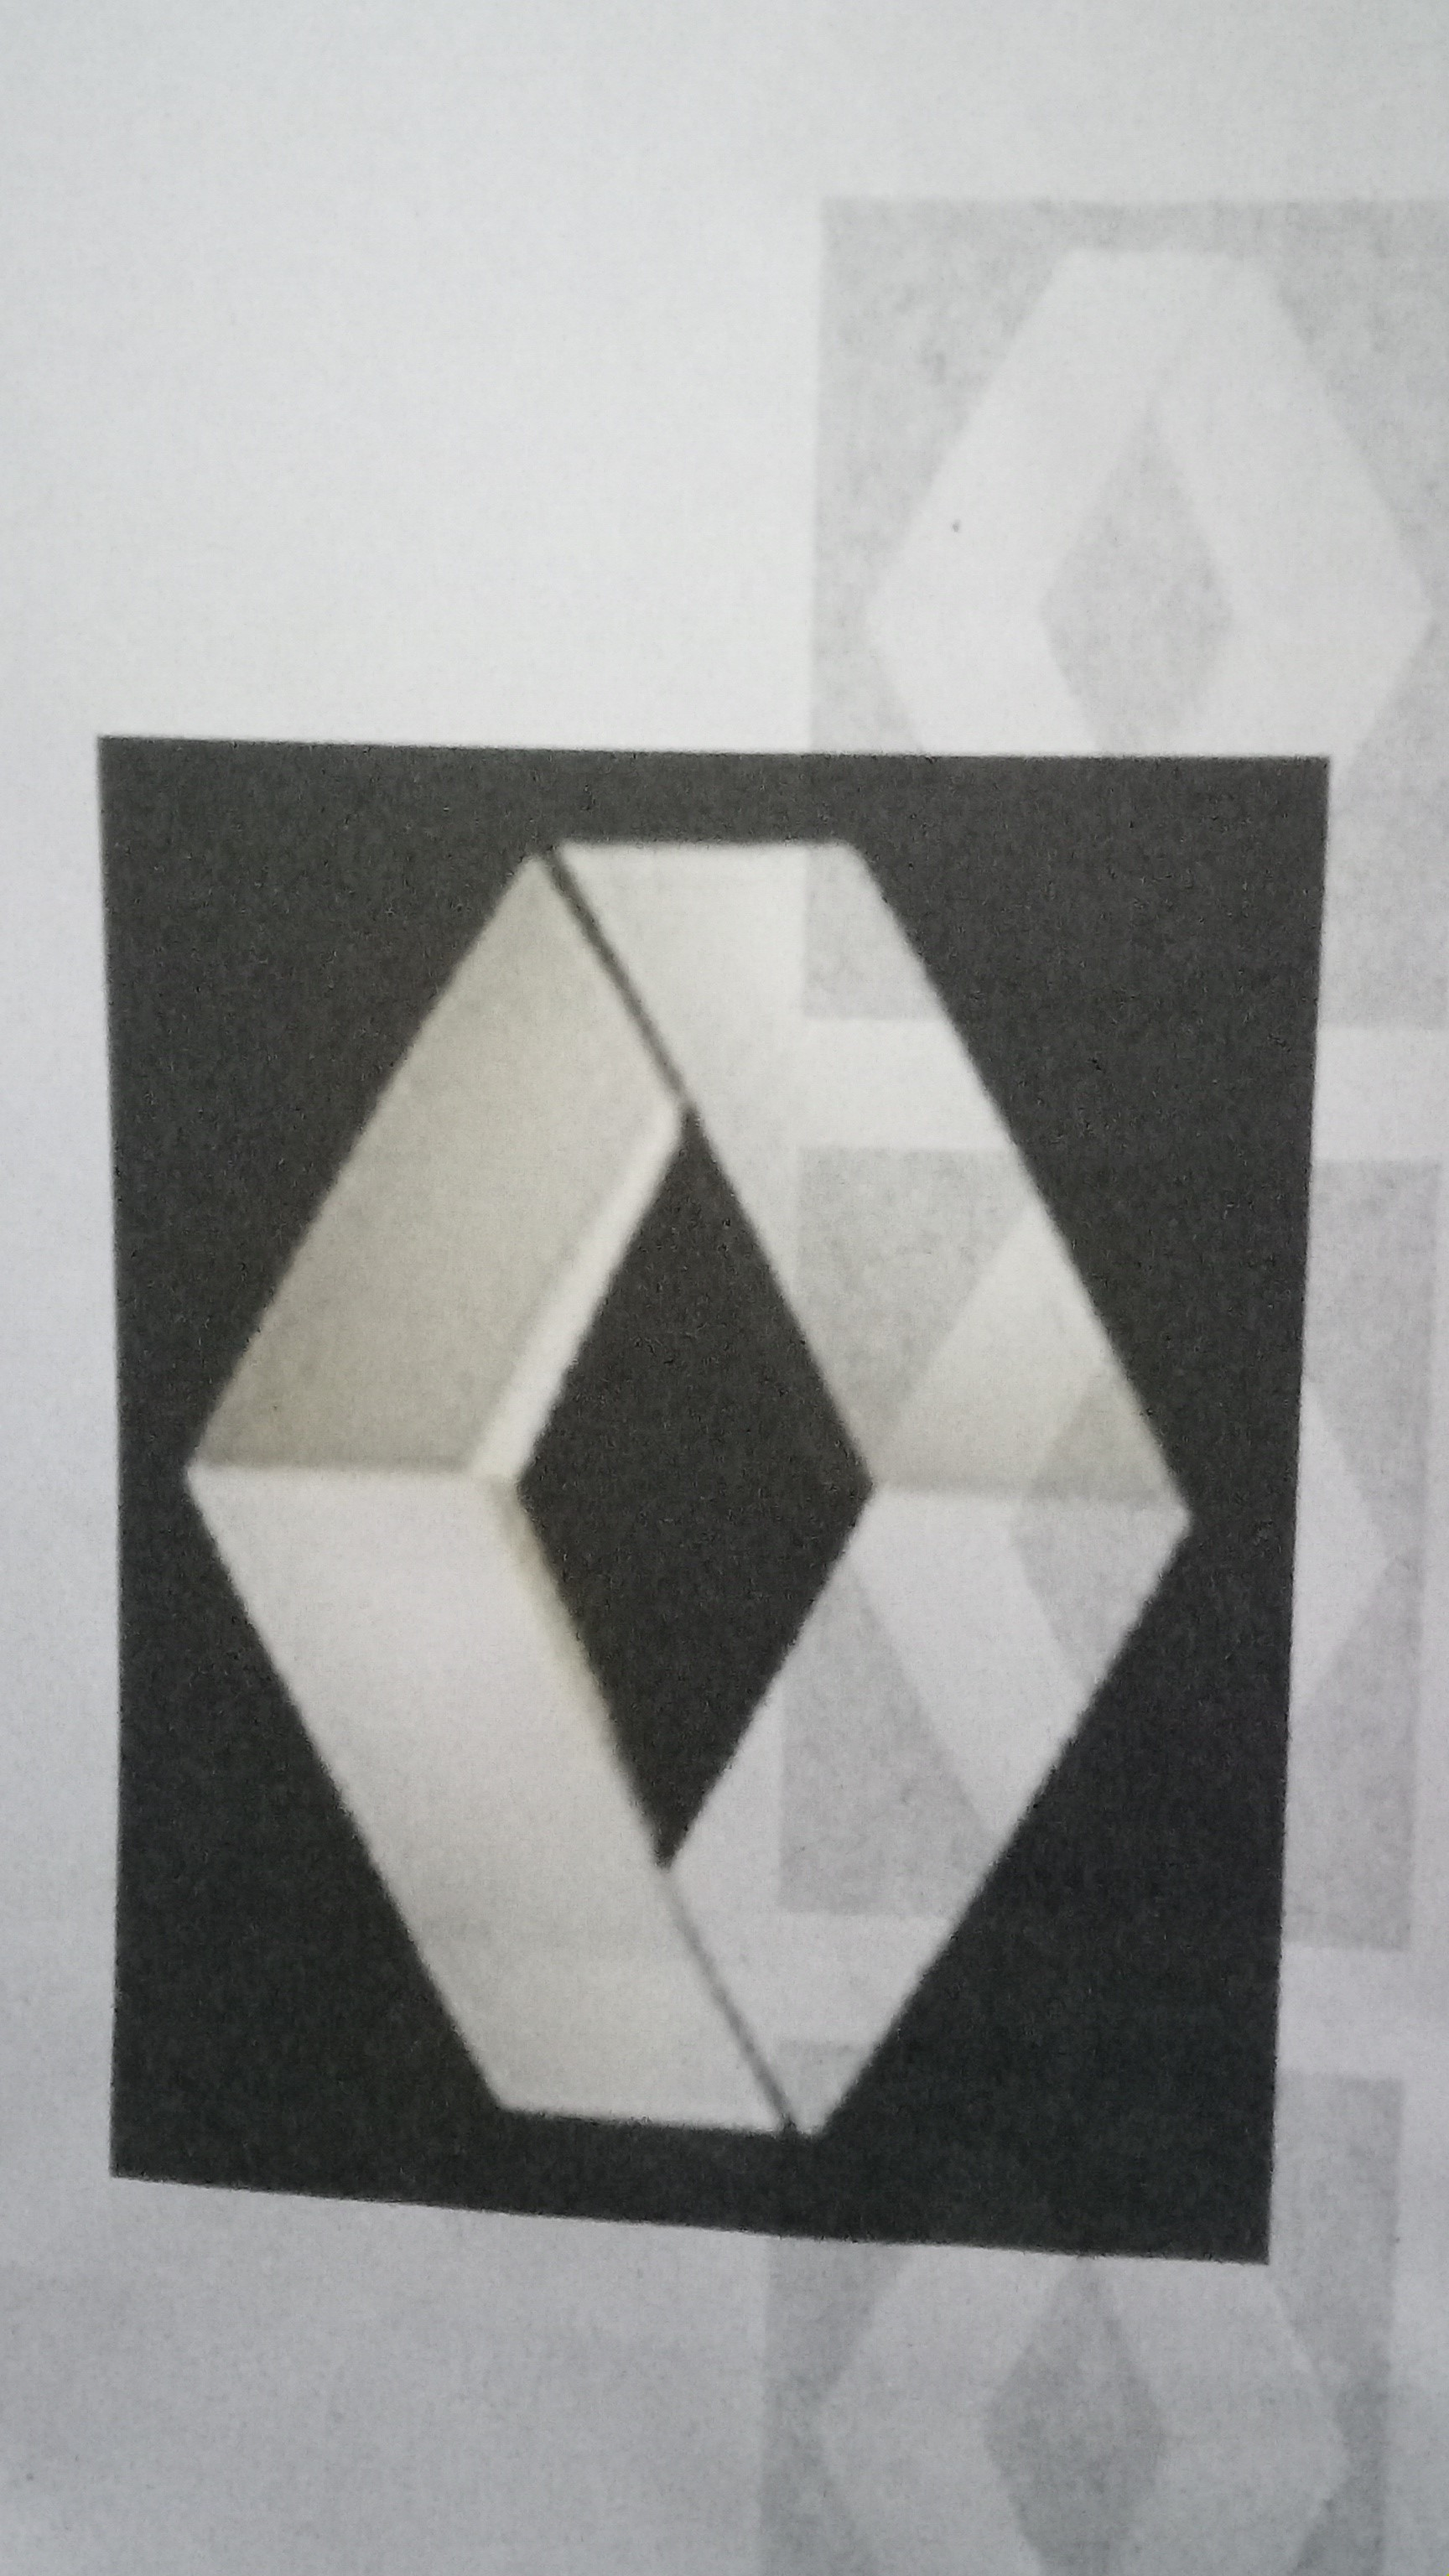Renault: (133, 784, 1228, 2229)
